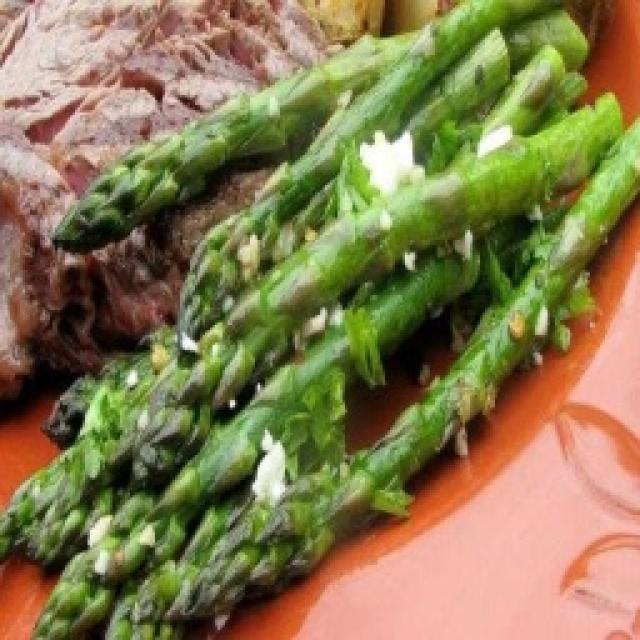Asparagus spear: (166, 520, 350, 624), (84, 130, 267, 226), (117, 356, 263, 454)
